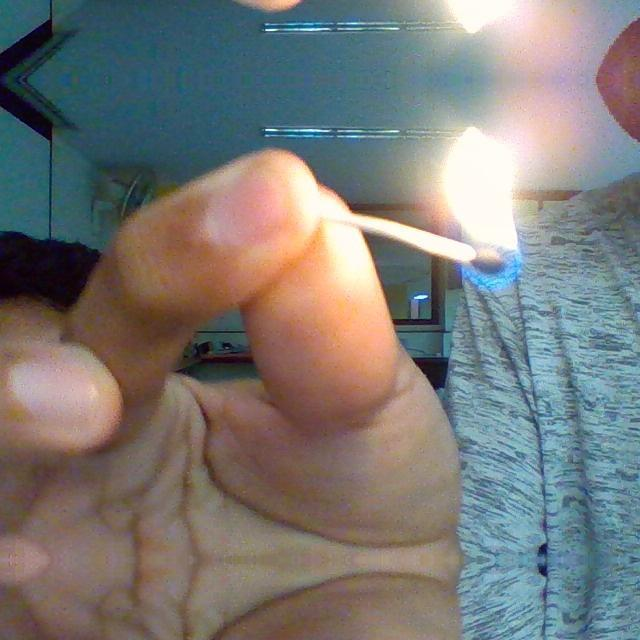smoke: (438, 126, 532, 290), (438, 0, 531, 34)
